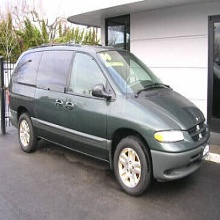no damage: (8, 44, 210, 197)
